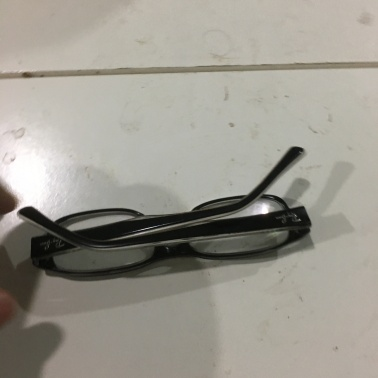glasses: (18, 198, 315, 269)
